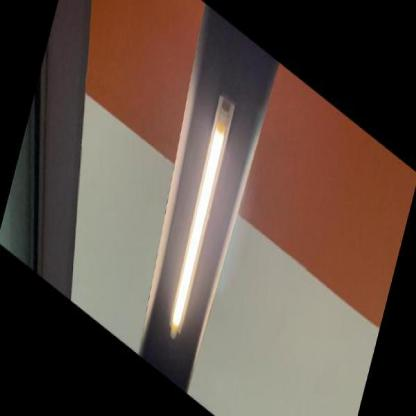light_on: (153, 84, 245, 353)
